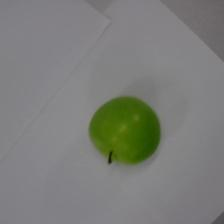green: (90, 92, 161, 169)
